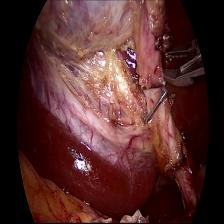Clipper: (161, 40, 209, 87)
